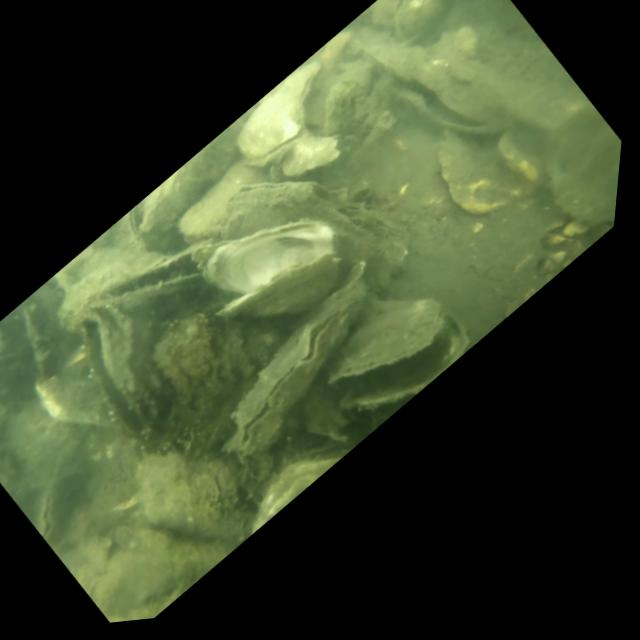Oyster-Closed: (190, 106, 431, 357), (190, 270, 408, 475), (218, 49, 353, 180), (166, 155, 274, 258), (11, 459, 95, 545)
Oyster-Indeterminate: (108, 402, 285, 587)
Oyster-Open: (166, 161, 372, 370), (346, 0, 537, 187), (297, 259, 482, 443), (51, 194, 231, 372), (44, 280, 213, 462)
